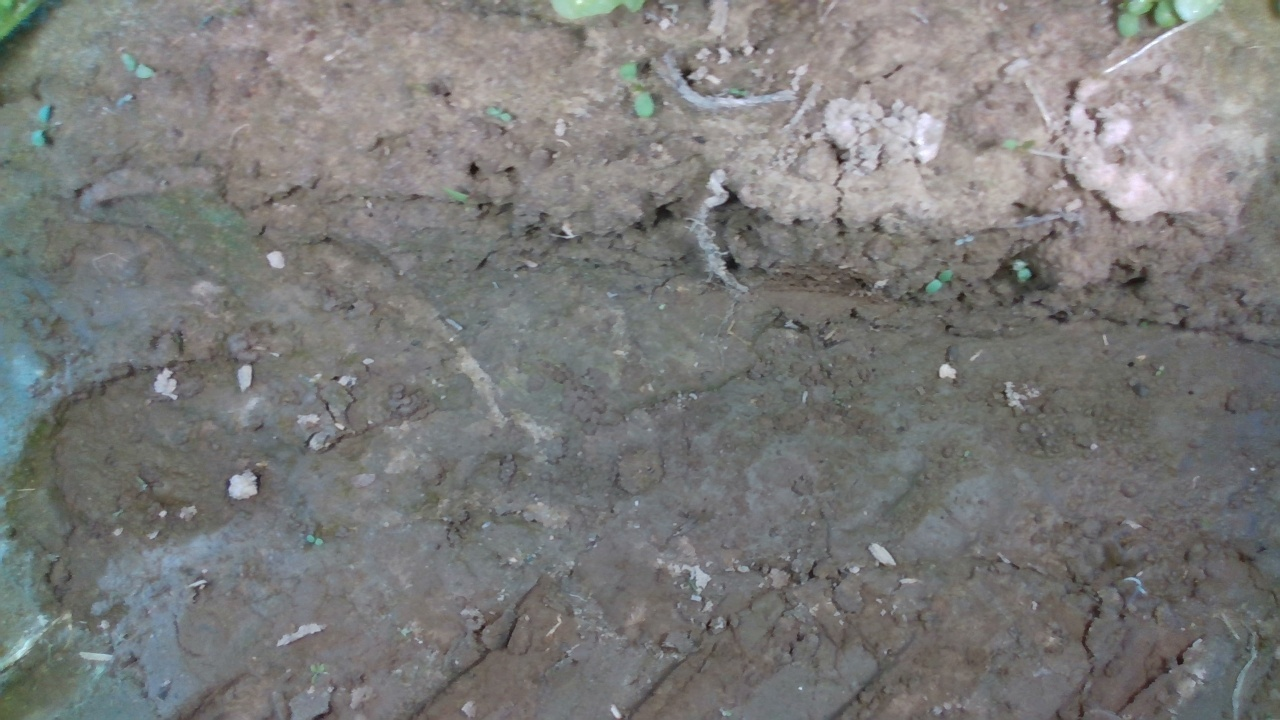weed: (618, 62, 657, 120), (28, 102, 53, 150), (118, 52, 157, 80), (923, 267, 953, 296), (481, 105, 512, 124), (1011, 259, 1032, 284)
